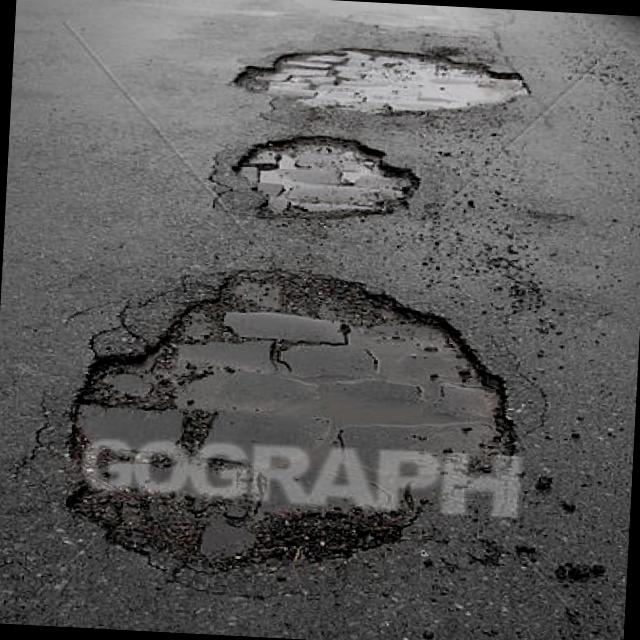bad-road: (63, 258, 531, 593), (230, 40, 535, 124), (230, 128, 423, 228)
